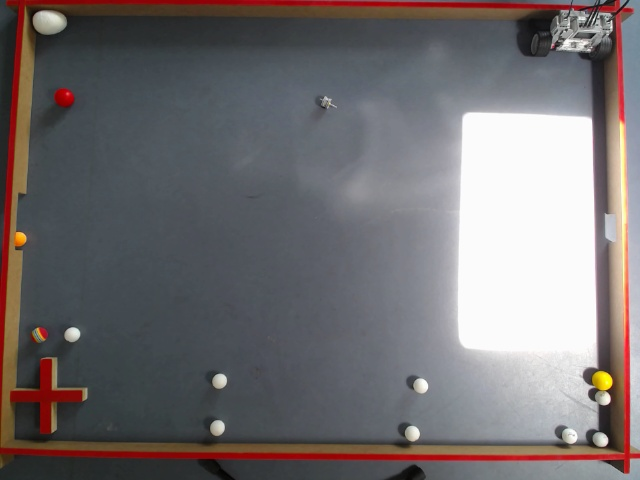big_goal: (14, 191, 26, 249)
cross: (10, 357, 88, 435)
egg: (30, 8, 69, 36)
orange: (15, 231, 27, 248)
robot: (530, 9, 612, 62)
small_goal: (604, 213, 615, 243)
wall: (13, 18, 608, 447)
white: (560, 426, 578, 444), (210, 417, 226, 435), (212, 372, 228, 389), (591, 431, 608, 447), (594, 392, 612, 407), (412, 377, 428, 393), (404, 425, 420, 441), (64, 327, 79, 342)
